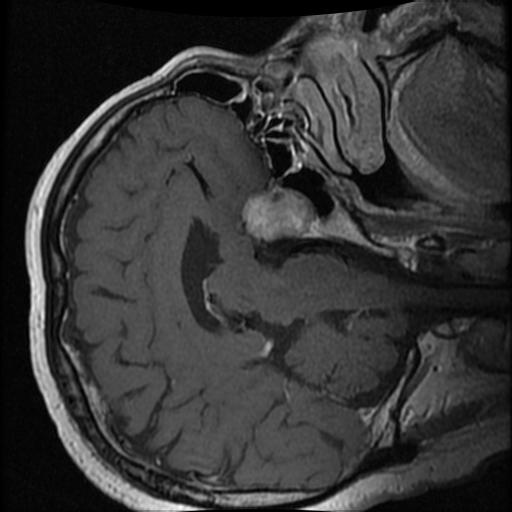pituitary tumour: (242, 187, 312, 238)
